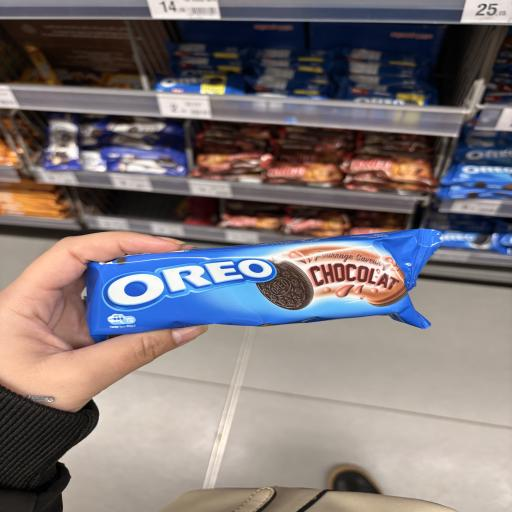oreo: (52, 211, 464, 378)
